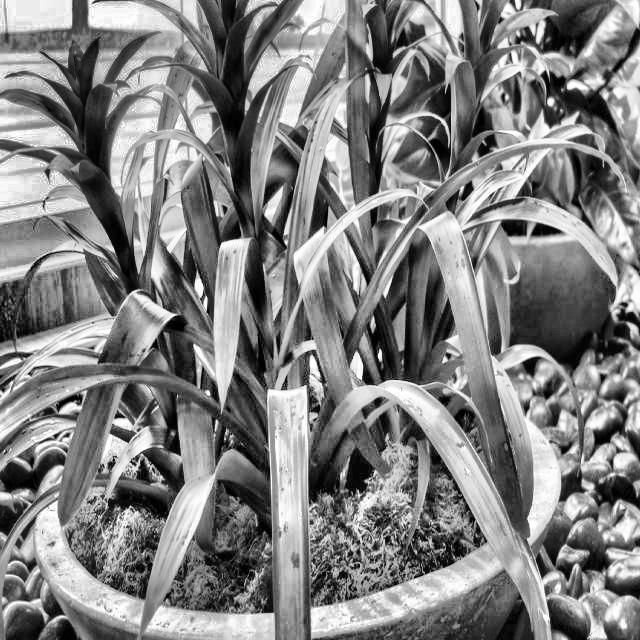plants: (21, 220, 512, 640), (372, 4, 636, 333)
